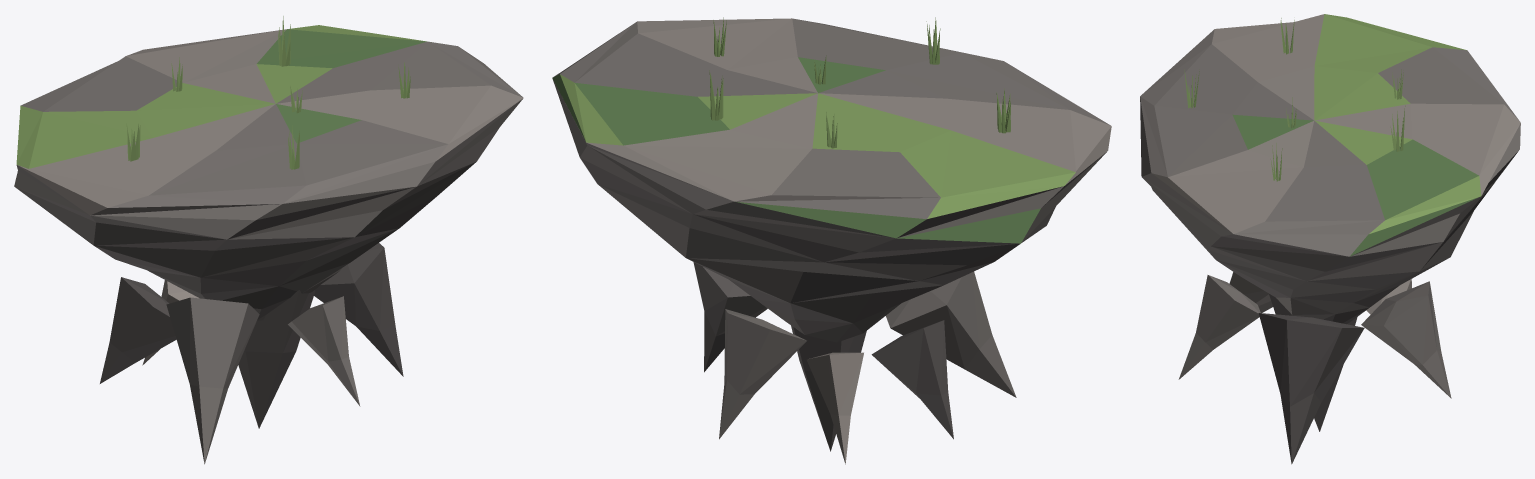
File: floating_rock.glb
3 views of the same model, side by side, from view 1: azimuth 30°, elevation 25°; view 2: azimuth 150°, elevation 25°; view 3: azimuth 270°, elevation 25° (orthographic). The views are drawn at different scales.
Parts seen in each view (by area): view 1: floating_rock; view 2: floating_rock; view 3: floating_rock.
Boxes of the visible parts, x1,y1,x2,y2 form: floating_rock: (14, 16, 523, 464); floating_rock: (552, 17, 1111, 464); floating_rock: (1140, 14, 1520, 464).
Bounding box in the file's own units: 4 × 2.99 × 2.86.
